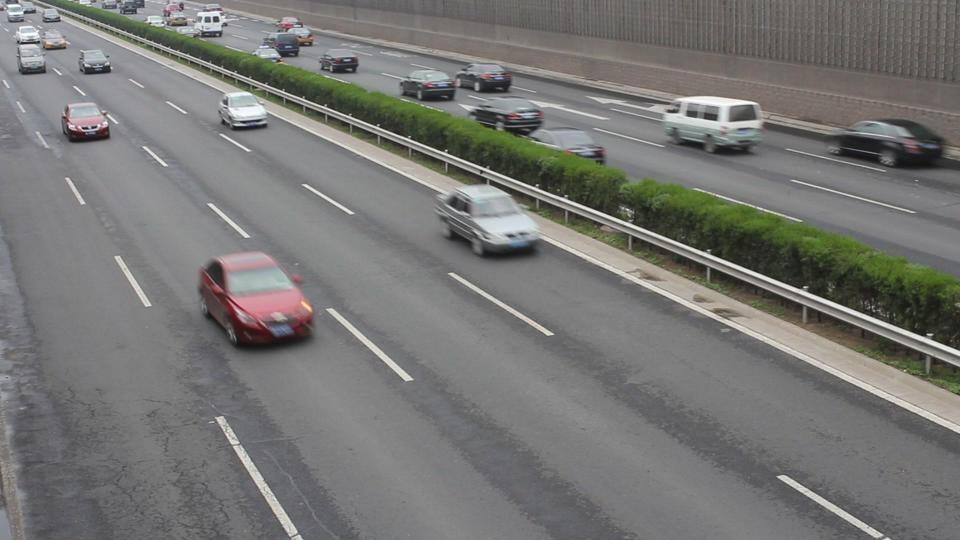car: (196, 249, 317, 348), (432, 184, 541, 258), (662, 95, 766, 155), (832, 117, 945, 168), (464, 96, 545, 136), (527, 128, 608, 166), (60, 99, 111, 141), (217, 91, 268, 130), (398, 68, 456, 102), (453, 62, 513, 93), (15, 27, 45, 74), (318, 49, 359, 73), (78, 48, 112, 74), (40, 30, 70, 51), (15, 24, 42, 46), (41, 9, 61, 23)
